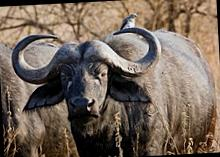Buffalo: (1, 0, 220, 157)
